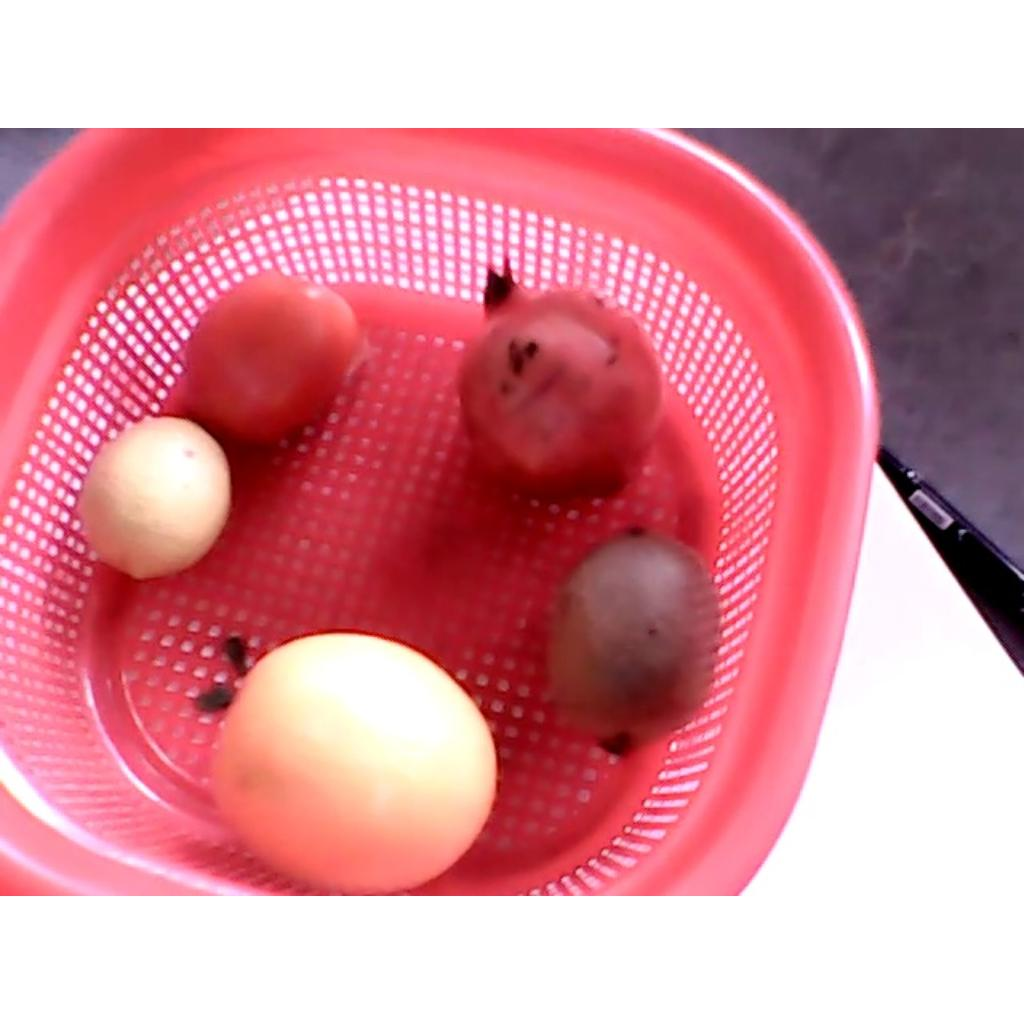kiwi: (547, 531, 718, 754)
lemon: (79, 415, 230, 580)
orange: (194, 633, 495, 894)
pomegranate: (460, 259, 665, 501)
tomato: (183, 269, 357, 446)
